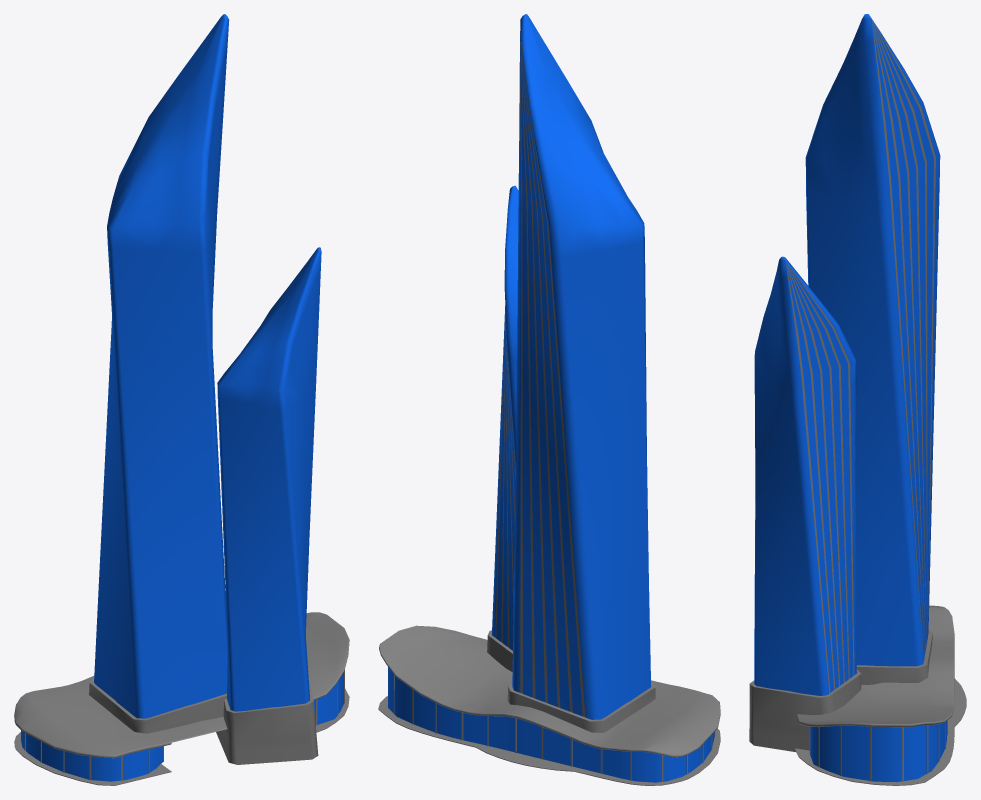
3 renders of one model, left to right at view 1: azimuth 30°, elevation 25°; view 2: azimuth 150°, elevation 25°; view 3: azimuth 270°, elevation 25°, orthographic.
Visible parts, largest first — view 1: Box001; view 2: Box001; view 3: Box001.
Boxes of the visible parts, x1,y1,x2,y2 form: Box001: [14, 14, 349, 785]; Box001: [378, 14, 720, 785]; Box001: [749, 14, 966, 785].
Size of the model in its own units: 7173 by 15484 by 4276.
